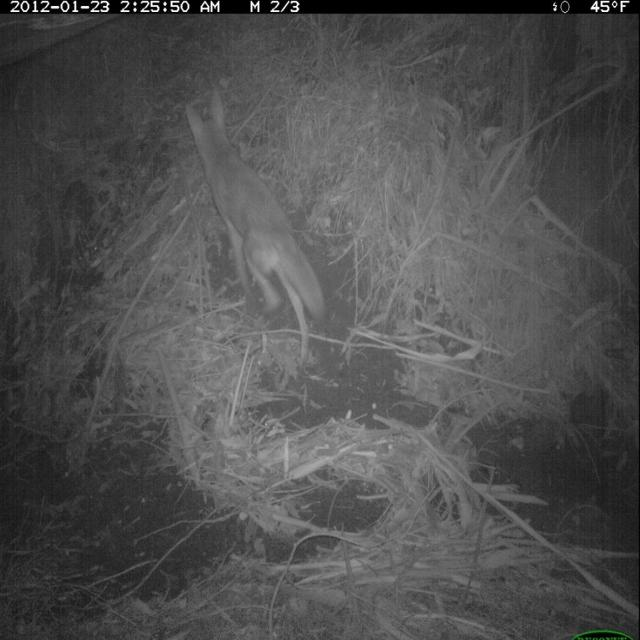coyote: (182, 89, 328, 368)
